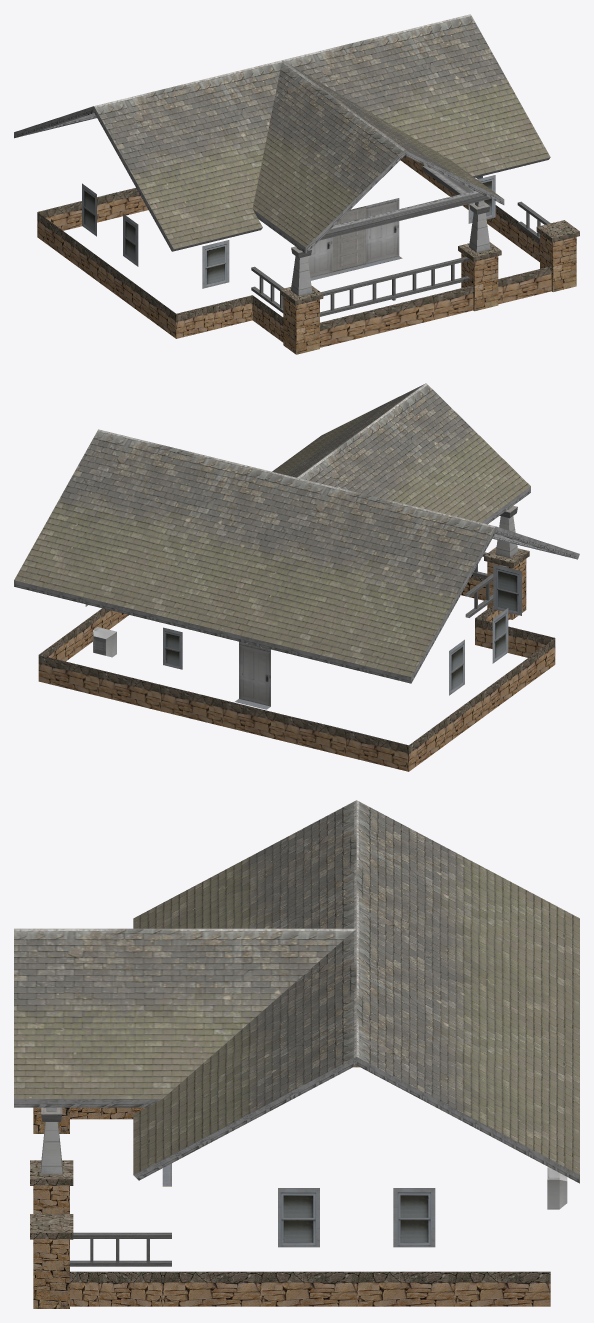
Rendered from rural_woodenbuilding_2_rural_housetrim_1_0_lev2.glb.
3 renders of one model, top to bottom at view 1: azimuth 30°, elevation 25°; view 2: azimuth 150°, elevation 25°; view 3: azimuth 270°, elevation 25°, orthographic. The views are drawn at different scales.
Visible parts, largest first — view 1: rural_woodenbuilding_2_rural_housetrim_1_0_lev2; view 2: rural_woodenbuilding_2_rural_housetrim_1_0_lev2; view 3: rural_woodenbuilding_2_rural_housetrim_1_0_lev2.
Part boxes in pixels (x1,y1,x2,y2): rural_woodenbuilding_2_rural_housetrim_1_0_lev2: [14, 14, 579, 354]; rural_woodenbuilding_2_rural_housetrim_1_0_lev2: [14, 383, 579, 771]; rural_woodenbuilding_2_rural_housetrim_1_0_lev2: [14, 800, 579, 1308].
Bounding box in the file's own units: 10.54 × 4.95 × 9.82.
1 material, 1 textured.
